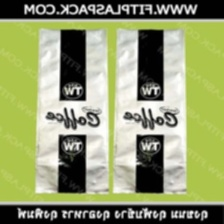snack: (31, 23, 113, 197), (109, 24, 191, 198)
